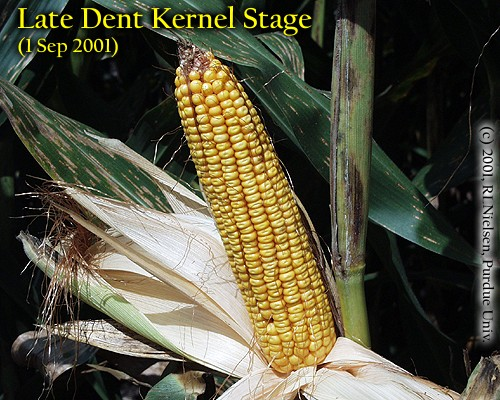corn: (173, 37, 337, 391)
